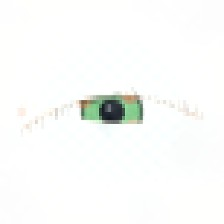foreign_body_visible: (119, 117, 148, 140)
